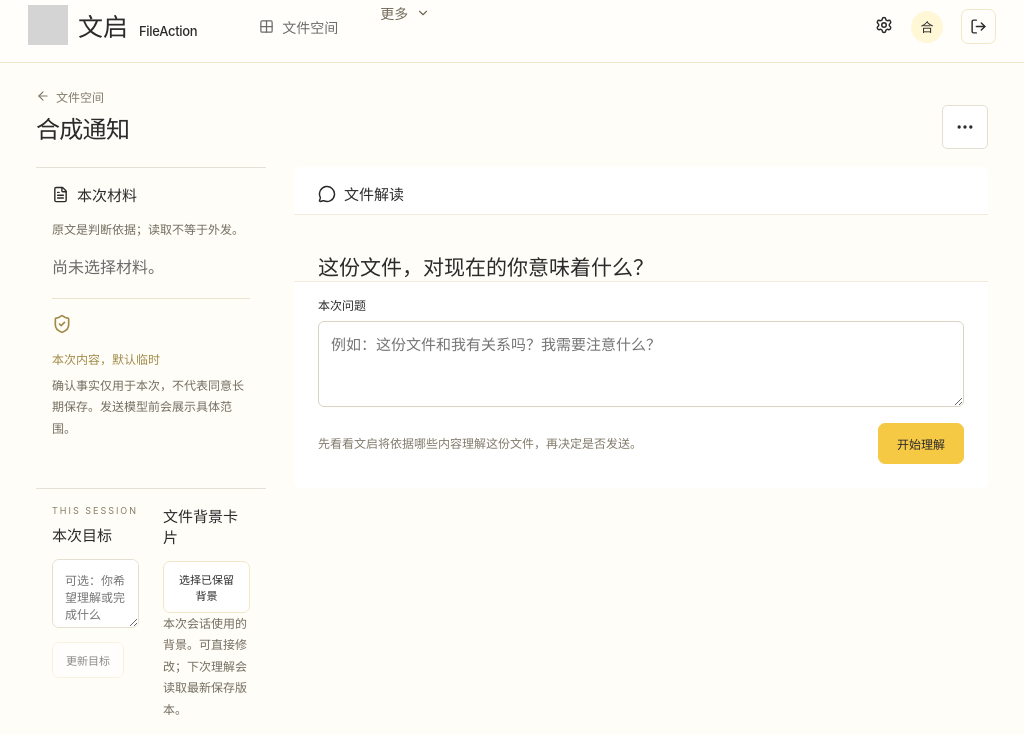
Test: 到这里就够了给出完成状态，可重新讨论且不保存、不清除临时内容
What coordinates should you click on to do the following:
click the button with aria-label "预览外发内容"
I would click on:
 (921, 444)
Its box is x1=878 y1=423 x2=964 y2=464.
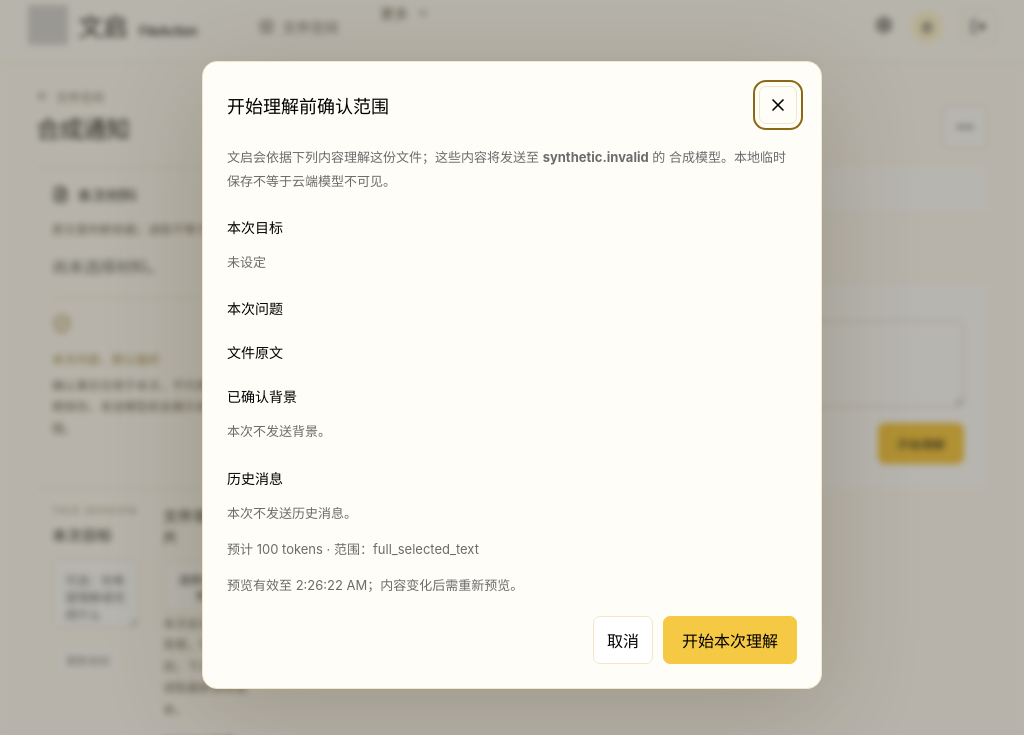
What coordinates should you click on to do the following:
click the button "开始本次理解"
I would click on:
 (730, 640)
Its box is x1=663 y1=616 x2=797 y2=664.
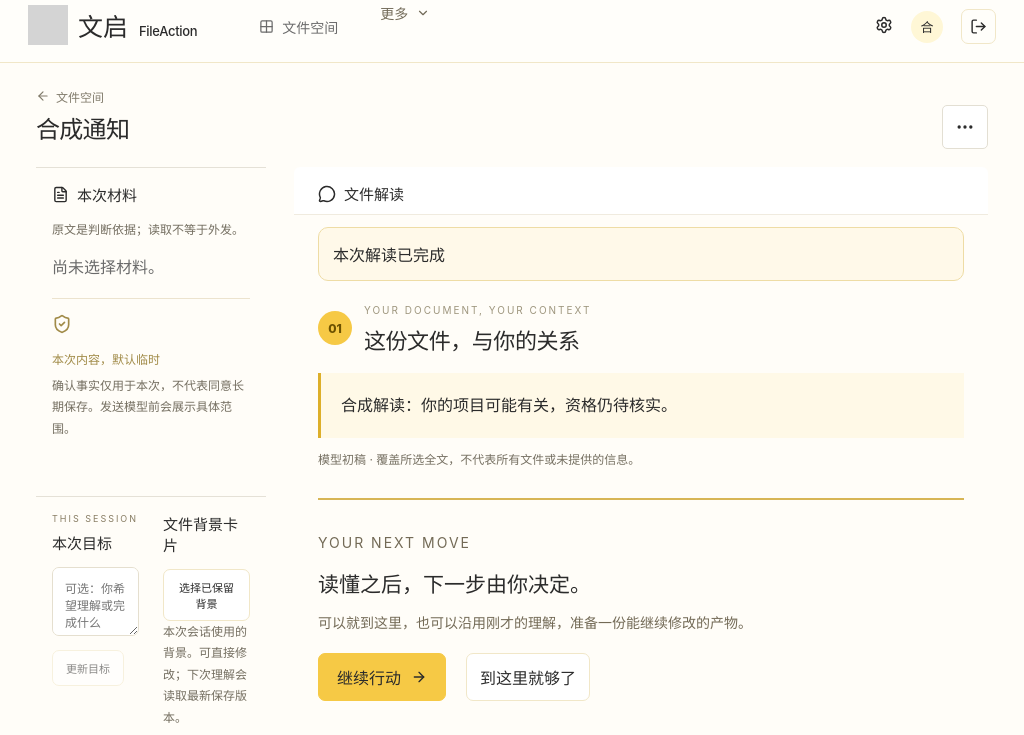
Expected: the text "合成解读：你的项目可能有关，资格仍待核实。" is shown, x1=318 y1=373 x2=964 y2=438
What coordinates should you click on to do the following:
click the button "到这里就够了"
I would click on:
 (528, 678)
Its box is x1=466 y1=654 x2=590 y2=702.
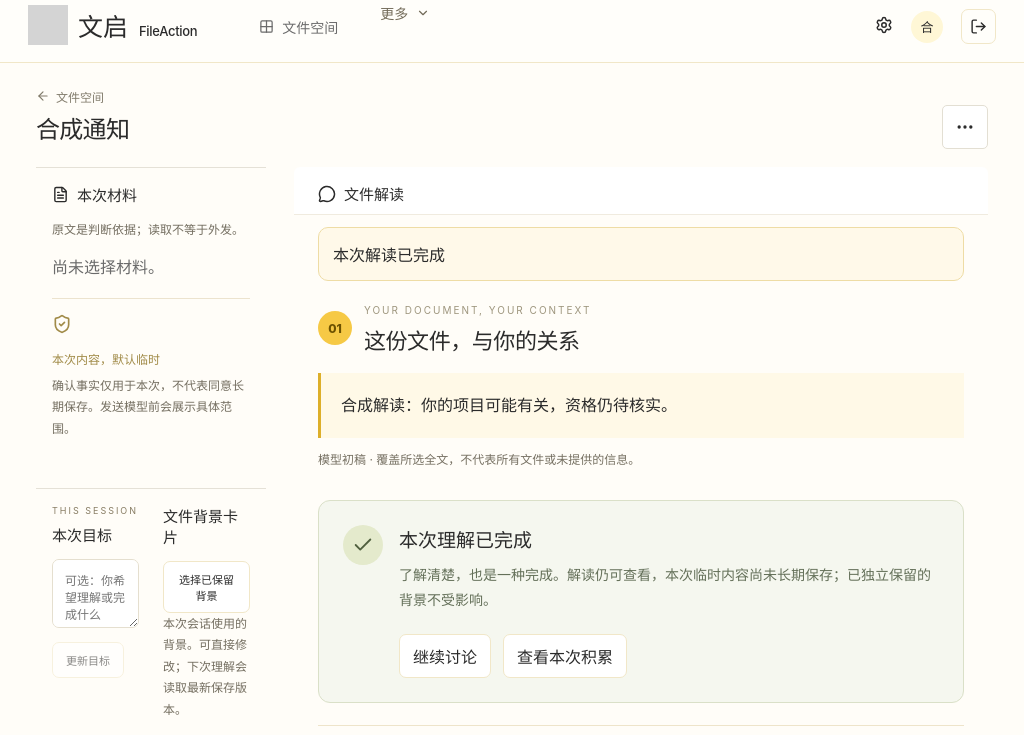
Expected: the heading "本次理解已完成" is shown, x1=399 y1=529 x2=532 y2=552
What coordinates should you click on to do the following:
click the button "继续讨论"
I would click on:
 (445, 656)
Its box is x1=399 y1=634 x2=491 y2=678.
(page scrolled)
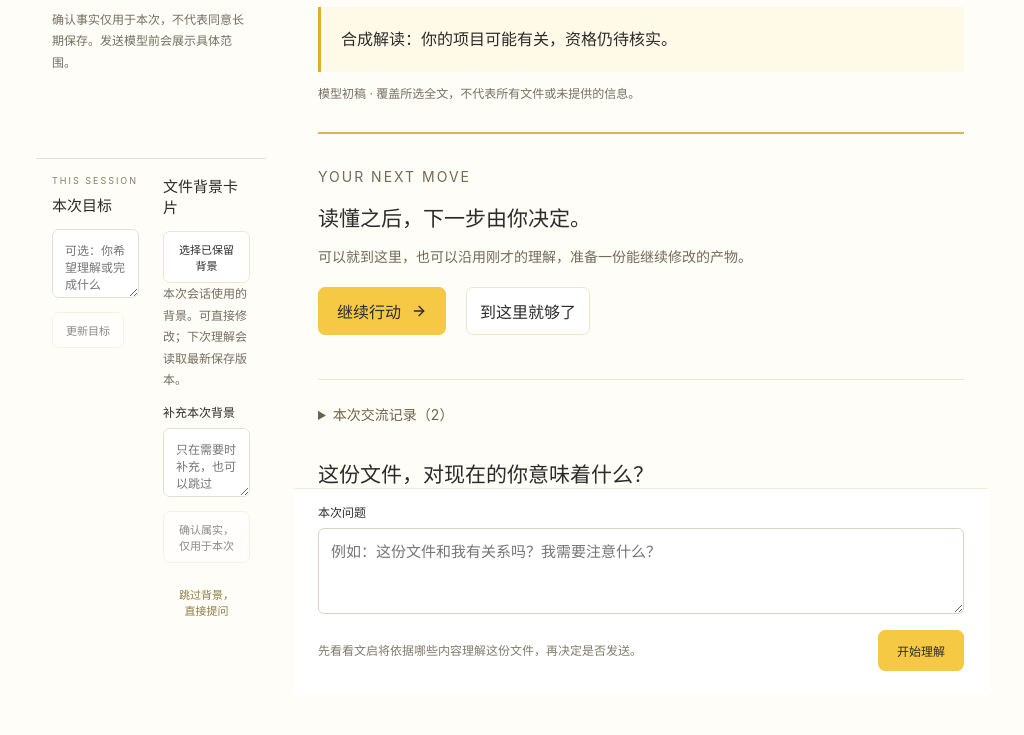
Expected: the text box labelled "本次问题" is shown, x1=318 y1=528 x2=964 y2=614
